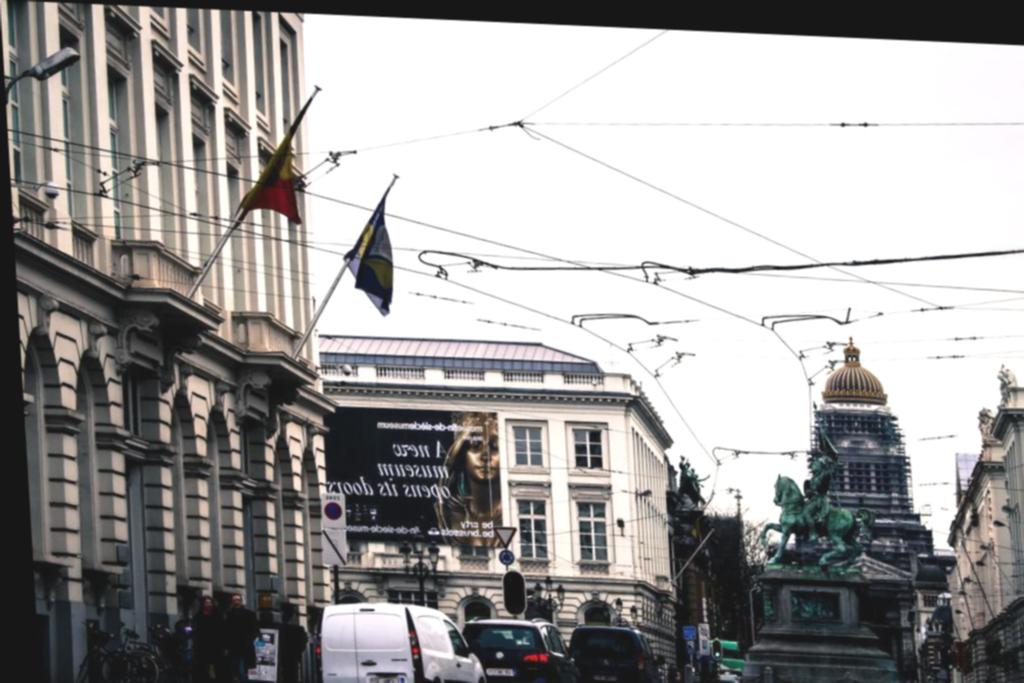License_Plate: (486, 666, 518, 677), (366, 674, 404, 683)
